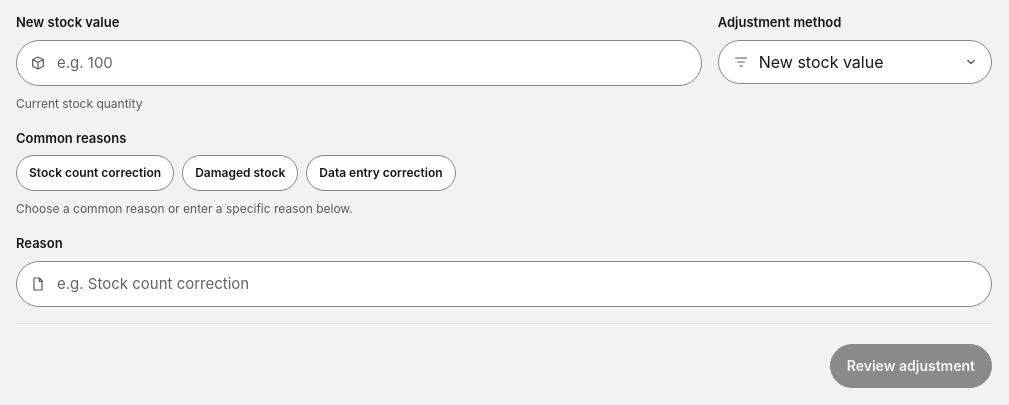
Scenario: InventoryStockForm › blocks inactive receiving and leaves corrections available
Expected: the button named "Receive stock" is disabled, x1=830 y1=344 x2=992 y2=388
In the field labelled "New stock value": (359, 62) x1=16 y1=40 x2=702 y2=86, type "8"
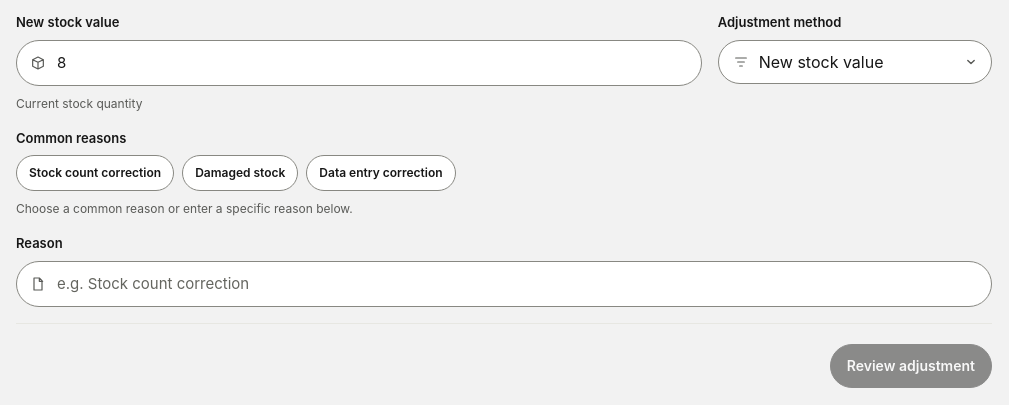
In the field labelled "Reason": (504, 284) x1=16 y1=261 x2=992 y2=307, type "Count correction"
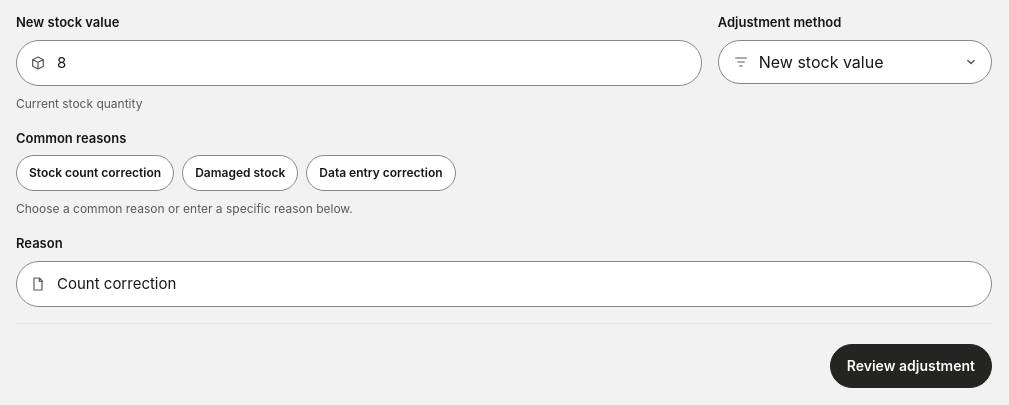
Now the button "Review adjustment" is enabled, box x1=830 y1=344 x2=992 y2=388
